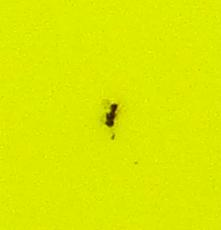Hymenoptera: (100, 100, 121, 130)
